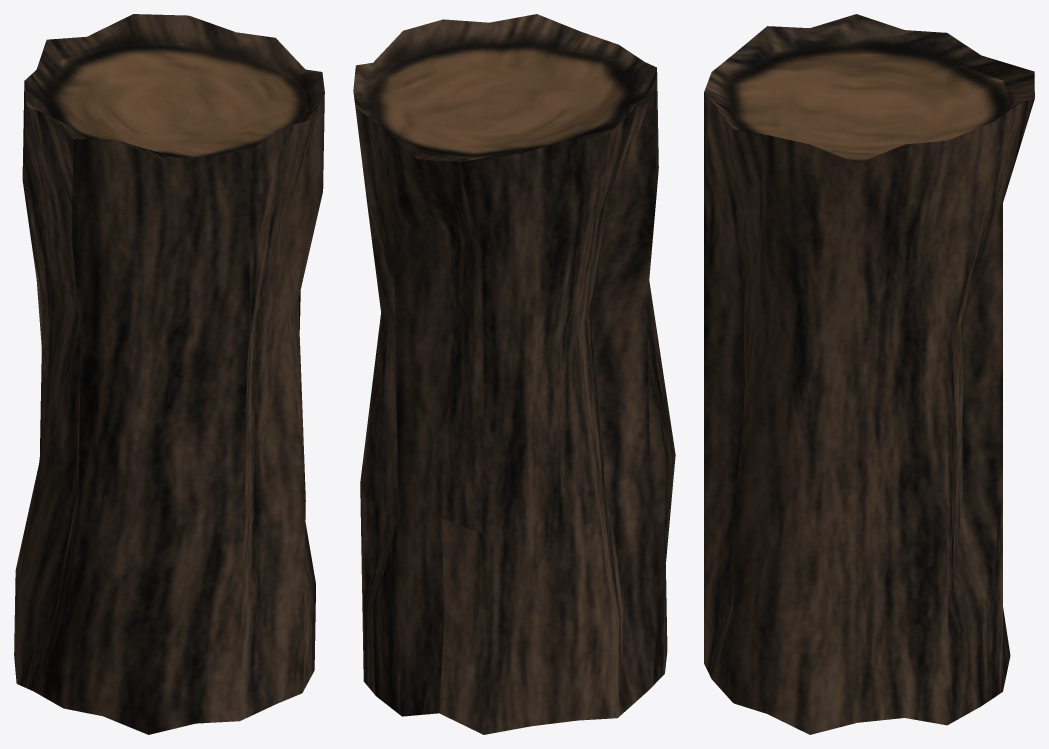
File: tree trunk_1 - Transition to puzzle 2.fbx
3 renders of one model, left to right at view 1: azimuth 30°, elevation 25°; view 2: azimuth 150°, elevation 25°; view 3: azimuth 270°, elevation 25°, orthographic.
Parts seen in each view (by area): view 1: pCylinder1; view 2: pCylinder1; view 3: pCylinder1.
Part boxes in pixels (x1,y1,x2,y2): pCylinder1: (14, 14, 324, 734); pCylinder1: (353, 14, 675, 734); pCylinder1: (704, 14, 1034, 734).
Bounding box in the file's own units: 477 × 992 × 495.
Materials: 1 (1 with a texture image).
